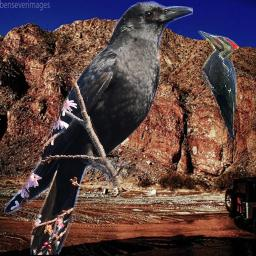Crow: (4, 0, 193, 255)
Woodpecker: (197, 30, 239, 141)
